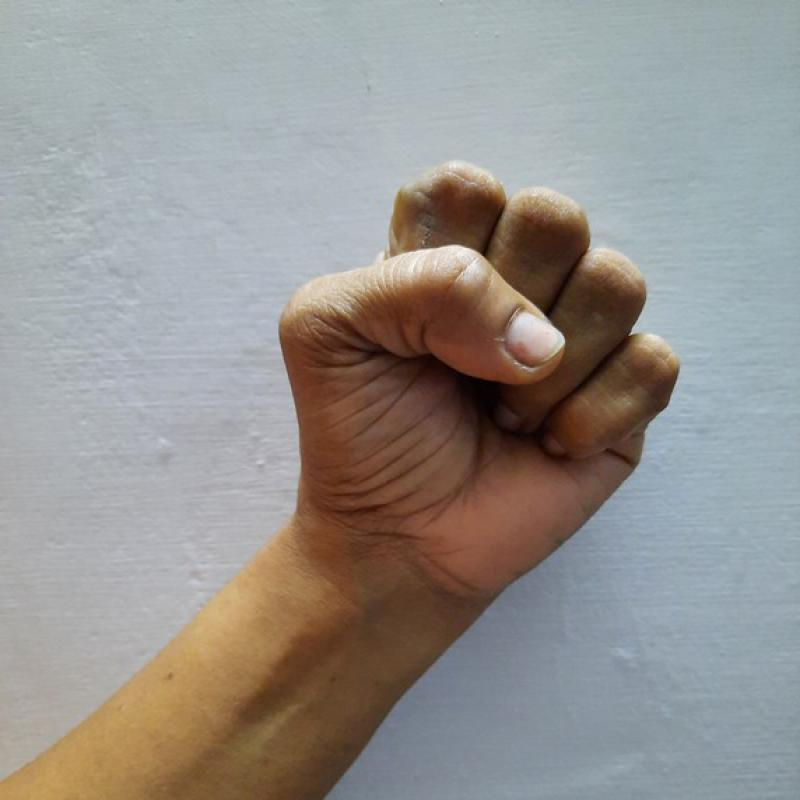Mushti: (252, 149, 691, 614)
